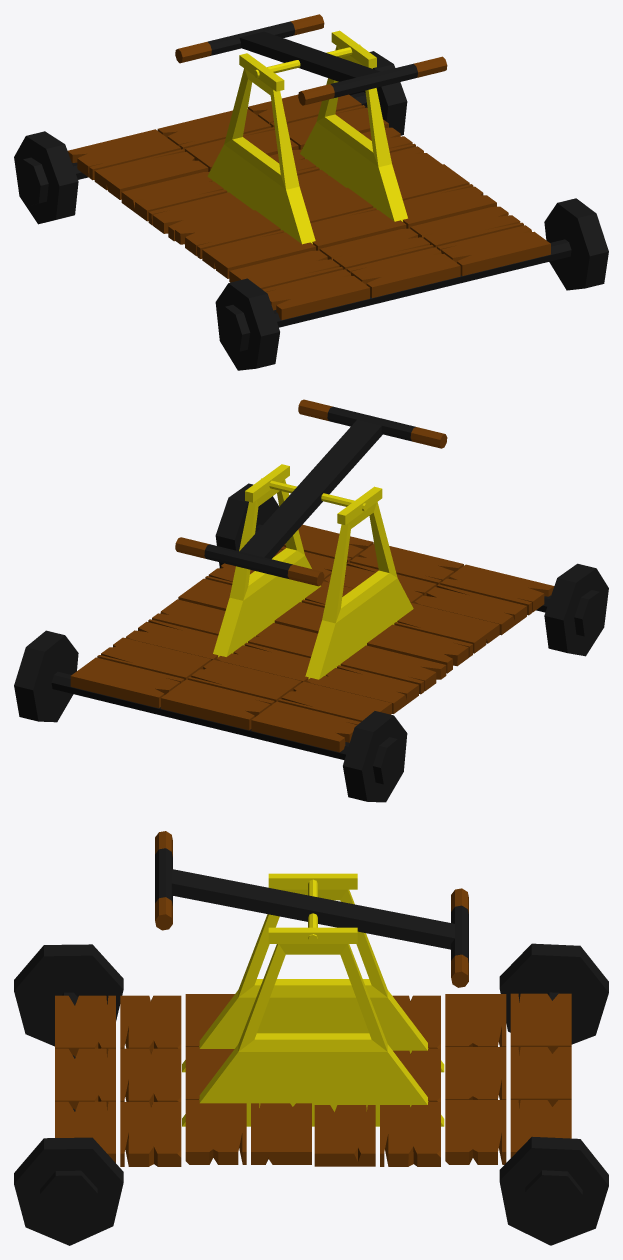
File: RailCart.fbx
The picture shows the model from 3 angles, top to bottom: view 1: azimuth 30°, elevation 25°; view 2: azimuth 150°, elevation 25°; view 3: azimuth 270°, elevation 25°; orthographic projection. The views are drawn at different scales.
Visible parts, largest first — view 1: Wood, LeverBase, FrontWheel, Lever, RearWheel; view 2: Wood, LeverBase, RearWheel, Lever, FrontWheel; view 3: Wood, LeverBase, FrontWheel, RearWheel, Lever.
Part boxes in pixels (x1,y1,x2,y2): Wood: (67, 94, 550, 319); LeverBase: (207, 30, 407, 244); FrontWheel: (215, 198, 608, 370); Lever: (175, 14, 447, 105); RearWheel: (14, 51, 407, 224); Wood: (70, 524, 554, 752); LeverBase: (213, 464, 413, 679); RearWheel: (14, 630, 407, 802); Lever: (175, 399, 447, 586); FrontWheel: (215, 483, 608, 656); Wood: (55, 993, 571, 1166); LeverBase: (182, 873, 444, 1126); FrontWheel: (14, 944, 123, 1245); RearWheel: (499, 943, 608, 1245); Lever: (155, 831, 468, 987).
Size of the model in its own units: 1209 by 714 by 1420.
